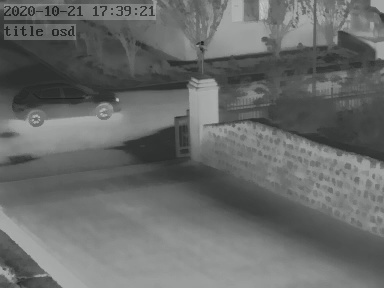vehicle: (10, 84, 120, 124)
